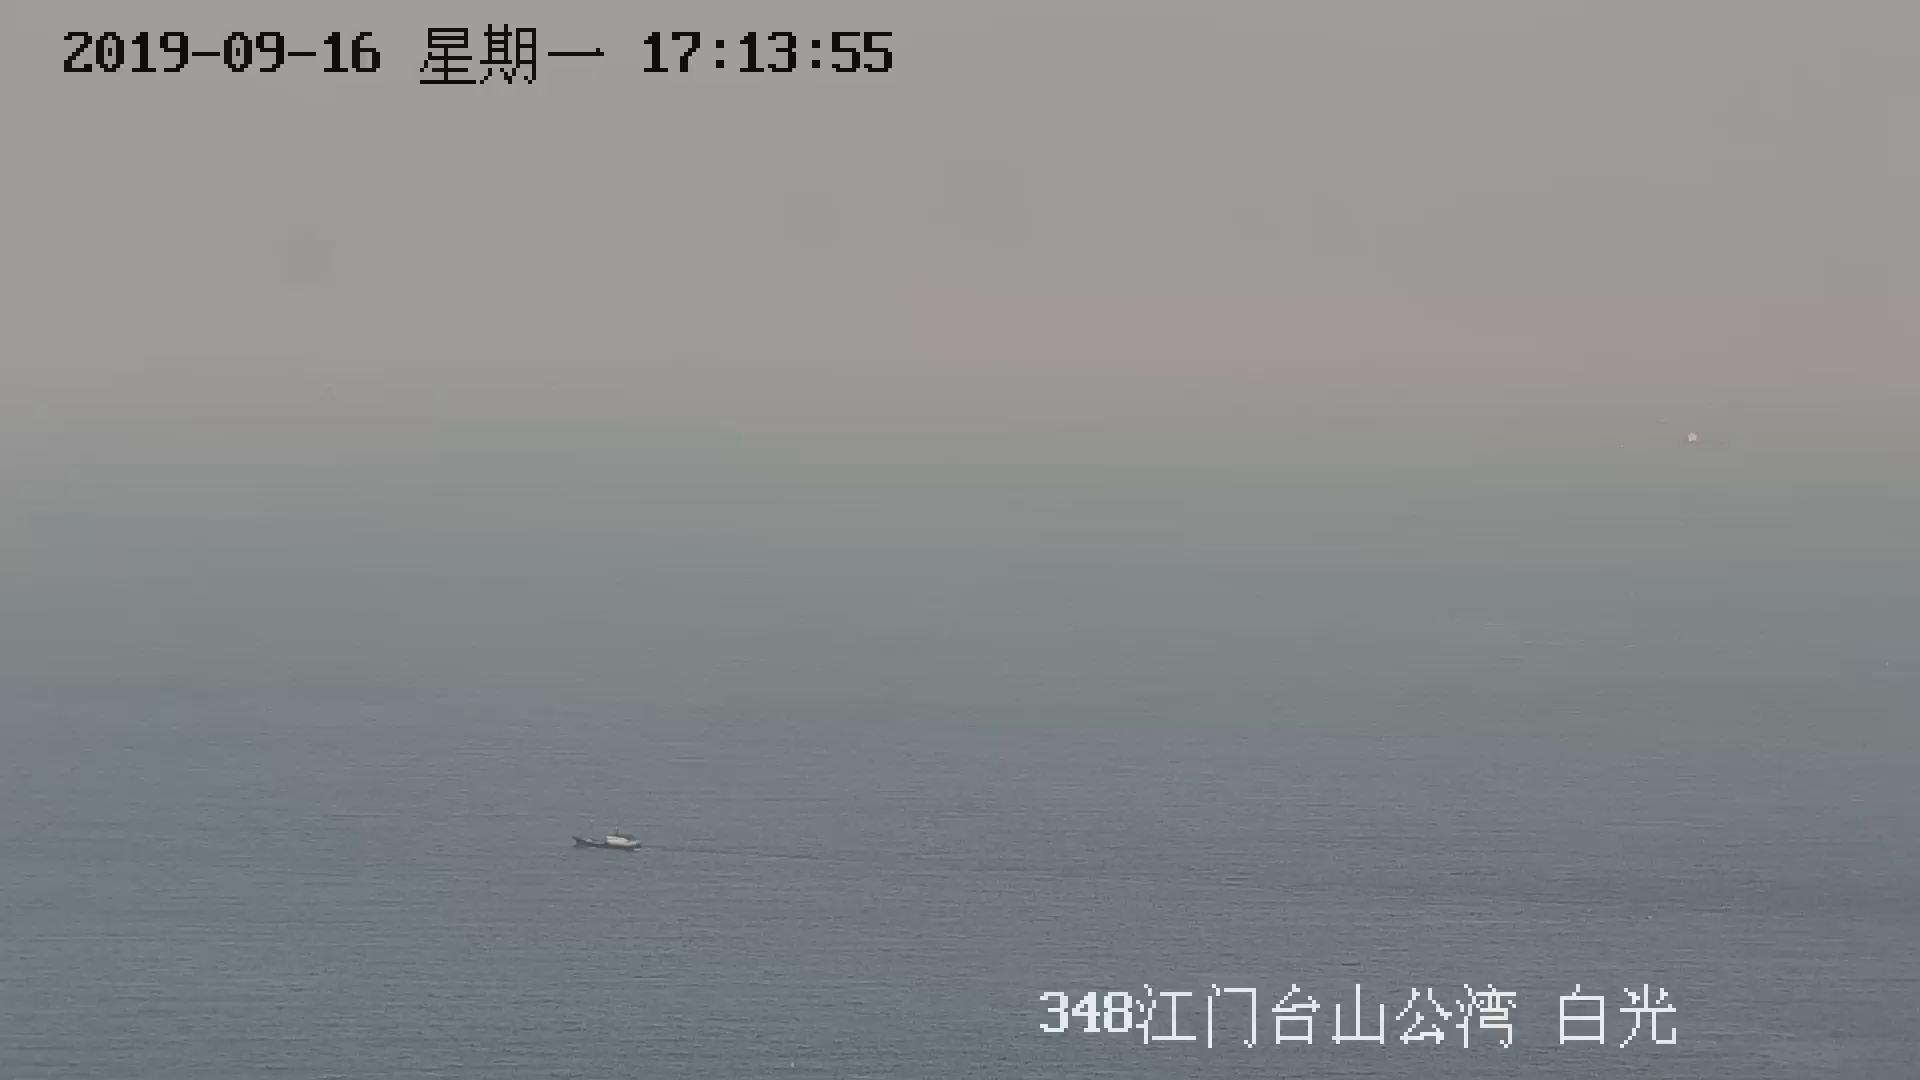ship: (572, 831, 641, 853)
